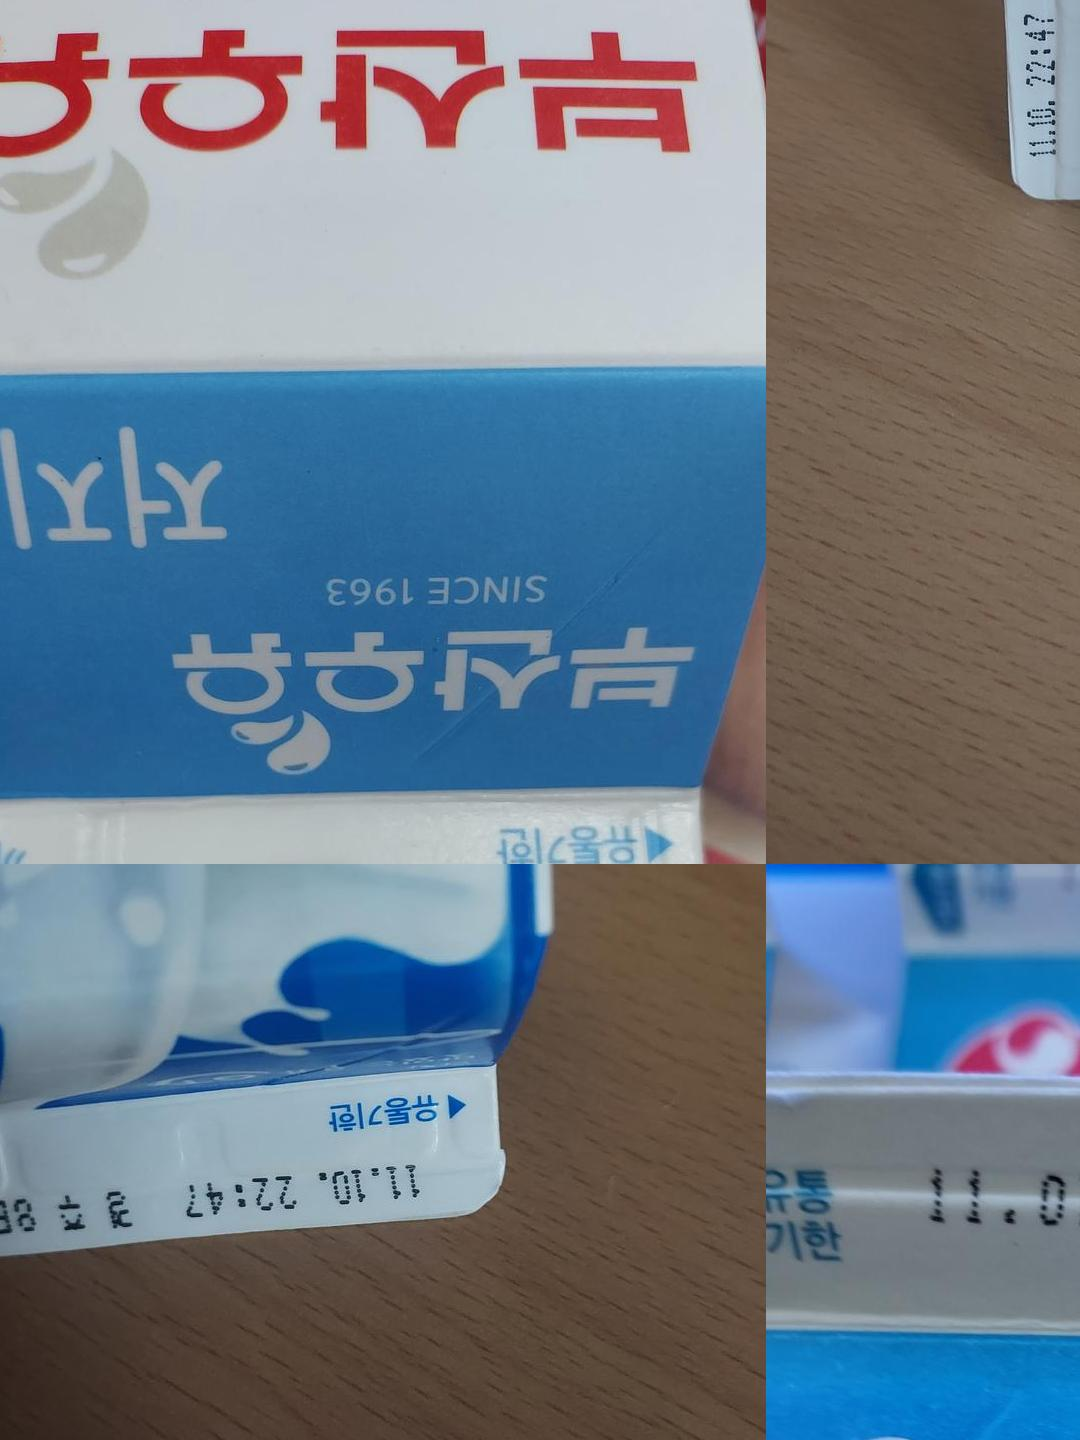milk: (0, 1062, 508, 1248), (766, 1077, 1080, 1355), (0, 801, 707, 864), (994, 0, 1080, 209)
